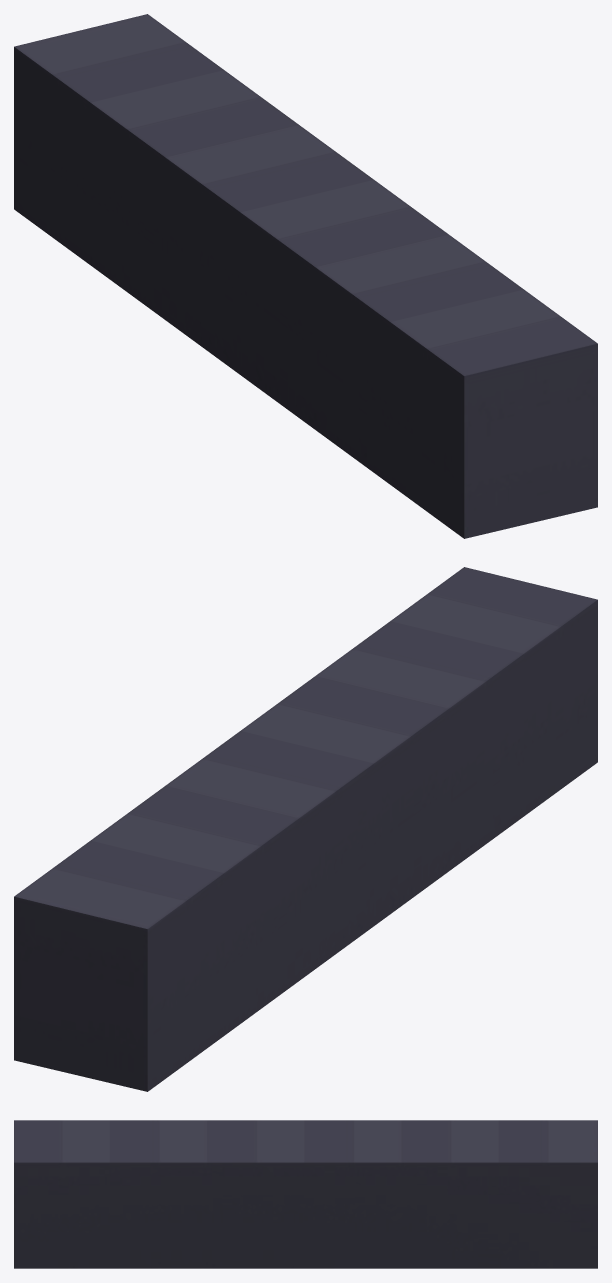
The model's file is Road_1.FBX.
3 views of the same model, one above another, from view 1: azimuth 30°, elevation 25°; view 2: azimuth 150°, elevation 25°; view 3: azimuth 270°, elevation 25° (orthographic). The views are drawn at different scales.
Visible parts, largest first — view 1: Road_1; view 2: Road_1; view 3: Road_1.
Boxes of the visible parts, <box> form: Road_1: <box>14,14,597,538</box>; Road_1: <box>14,567,597,1091</box>; Road_1: <box>14,1120,597,1268</box>.
Bounding box in the file's own units: 6 × 7.02 × 35.
